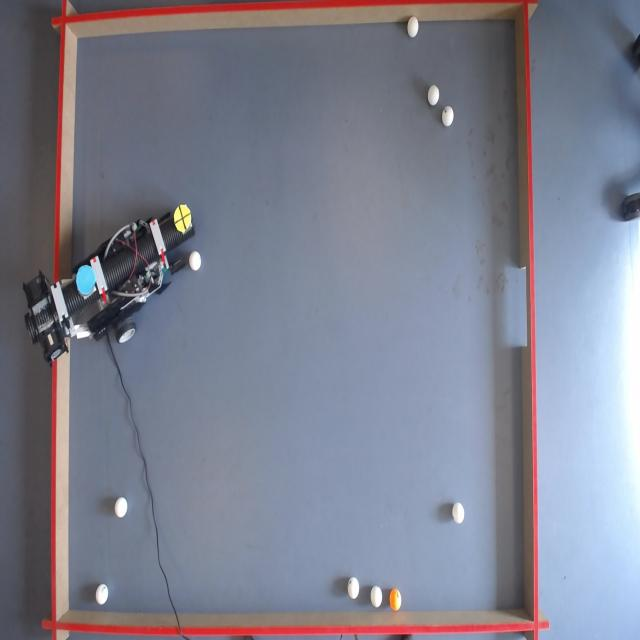orange: (389, 592, 402, 611)
robot: (27, 207, 204, 353)
robot-front: (174, 203, 192, 234)
robot-rear: (76, 264, 98, 298)
white: (96, 585, 110, 608), (115, 496, 128, 520), (452, 502, 466, 524), (348, 579, 361, 601), (372, 587, 384, 609), (409, 16, 421, 37), (428, 86, 440, 107), (189, 252, 201, 270), (444, 108, 456, 126)
